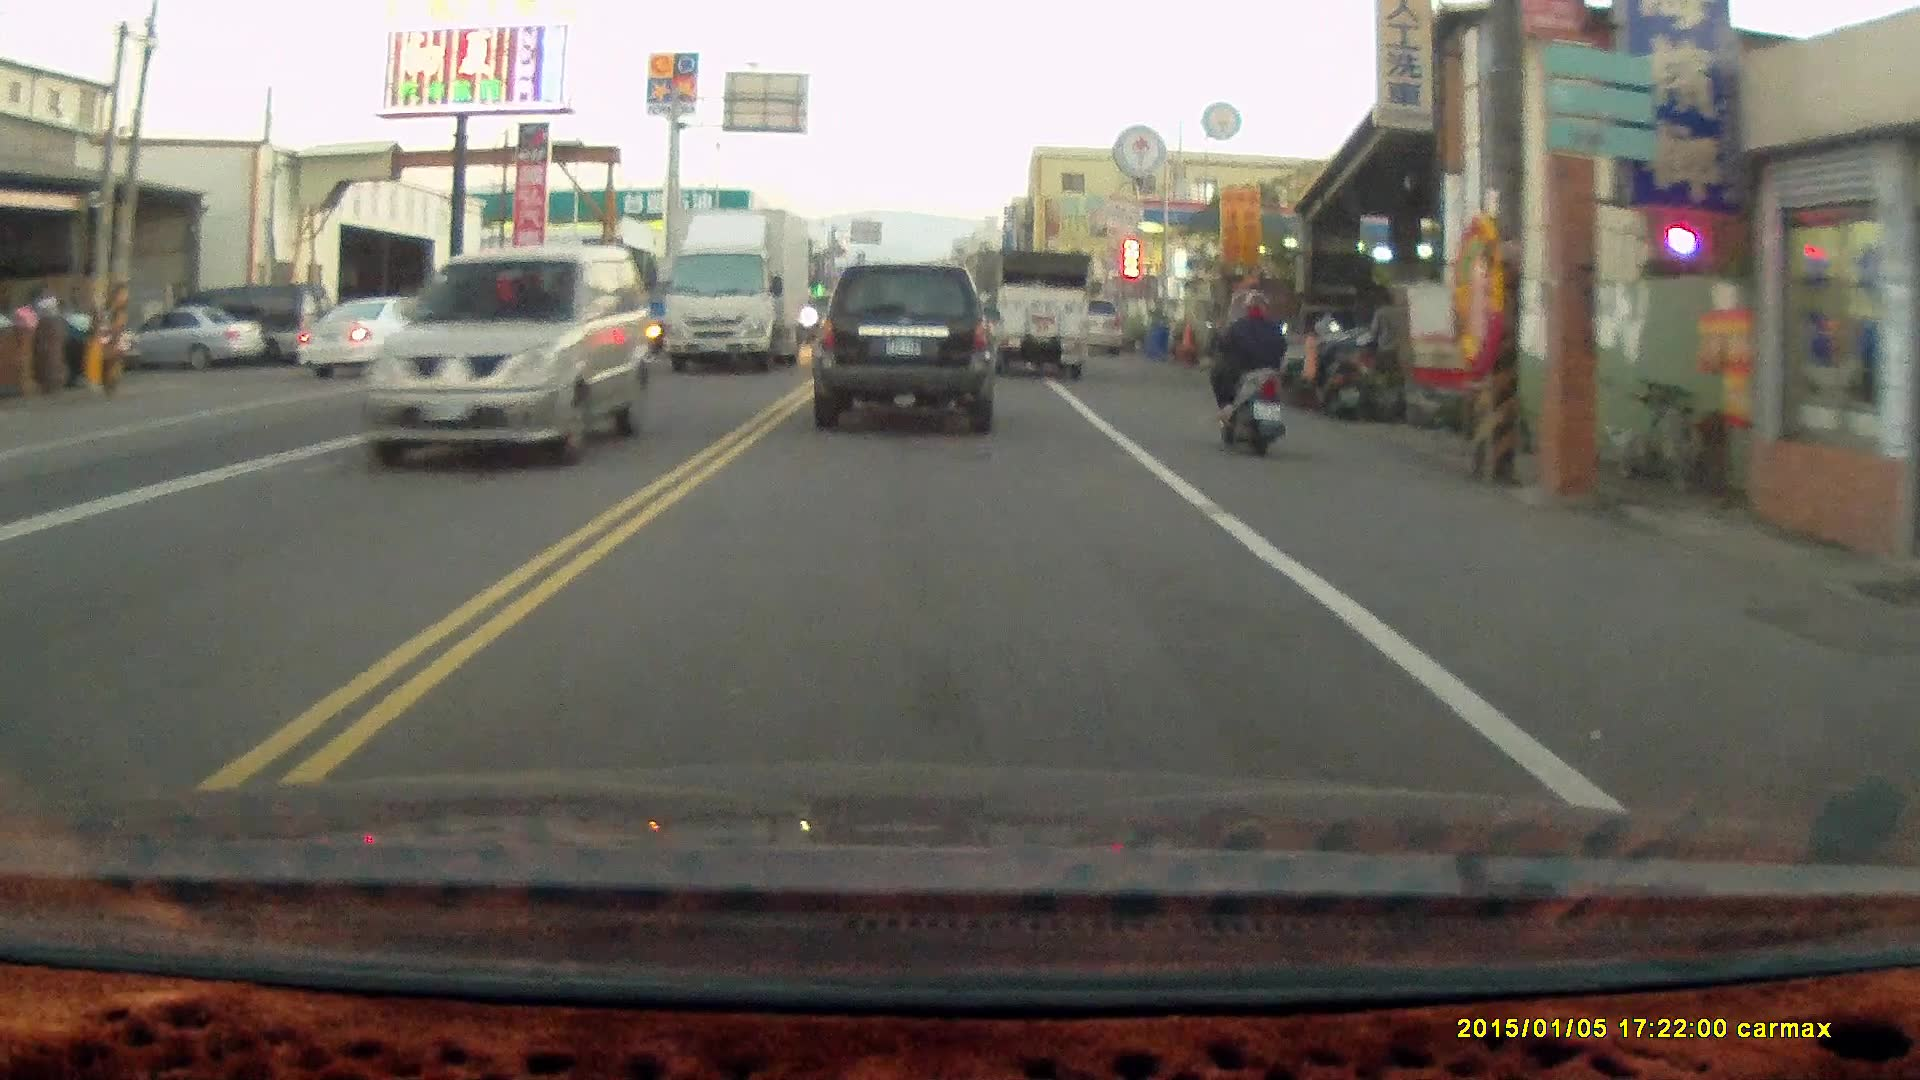pedestrian: (1367, 286, 1409, 405)
rider: (1199, 289, 1291, 459)
vehicle: (372, 246, 647, 468), (812, 256, 997, 432), (663, 208, 810, 375), (987, 247, 1090, 380), (138, 306, 273, 375)
